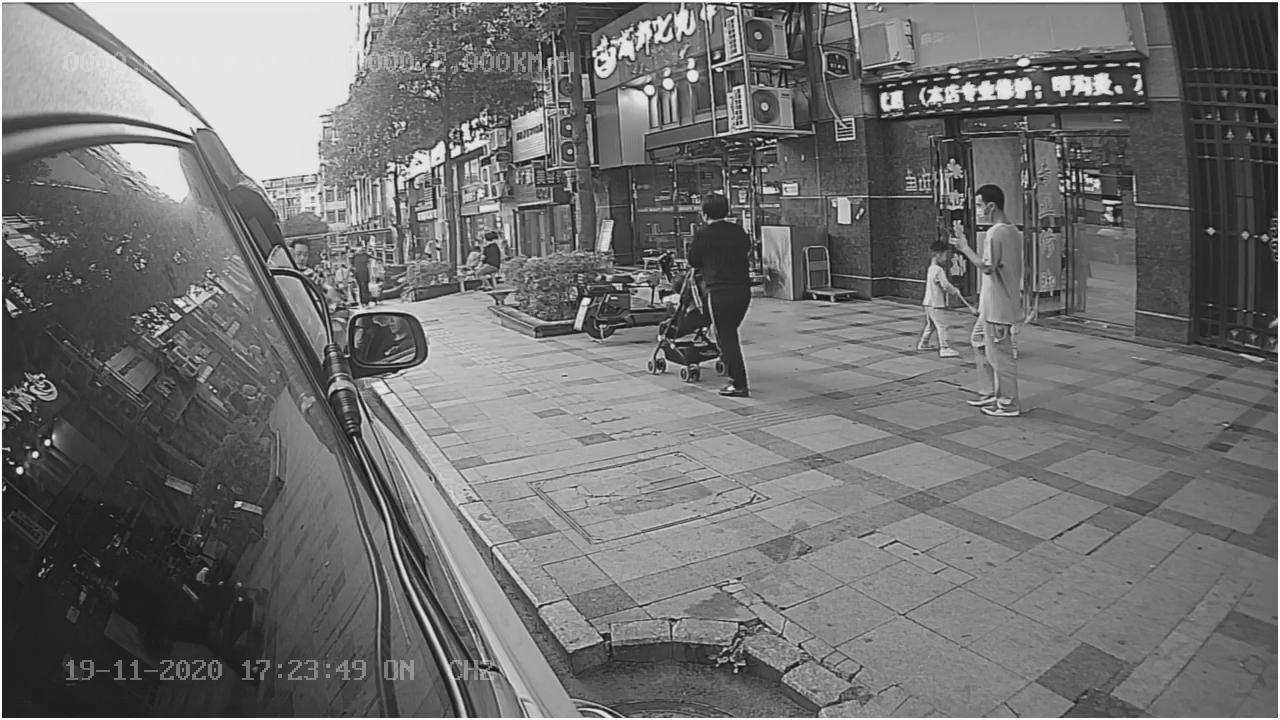person: (684, 189, 754, 401), (970, 183, 1031, 425), (912, 238, 964, 360)
